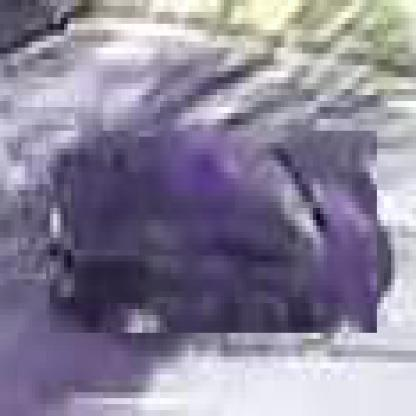car: (47, 132, 378, 340)
